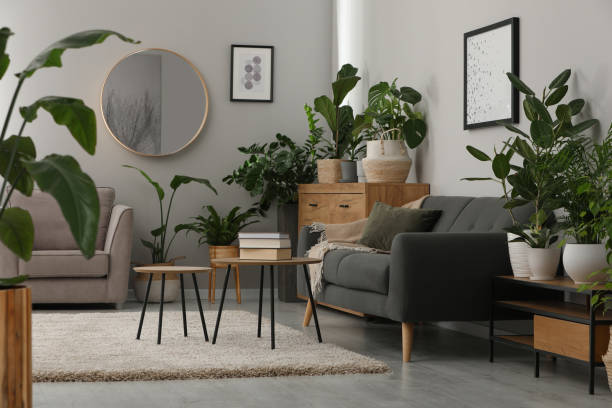chair: (0, 179, 135, 313)
large plant: (0, 23, 115, 408), (487, 80, 585, 276), (127, 165, 201, 303), (236, 131, 315, 227), (560, 142, 612, 284)
small plant: (356, 80, 426, 183), (185, 193, 246, 307), (312, 64, 341, 184), (512, 214, 562, 279), (340, 114, 355, 180)
sofa: (292, 193, 559, 364)
table: (486, 270, 612, 395), (211, 250, 324, 351), (132, 262, 214, 345)
wall art: (460, 15, 522, 130), (226, 41, 276, 104)
